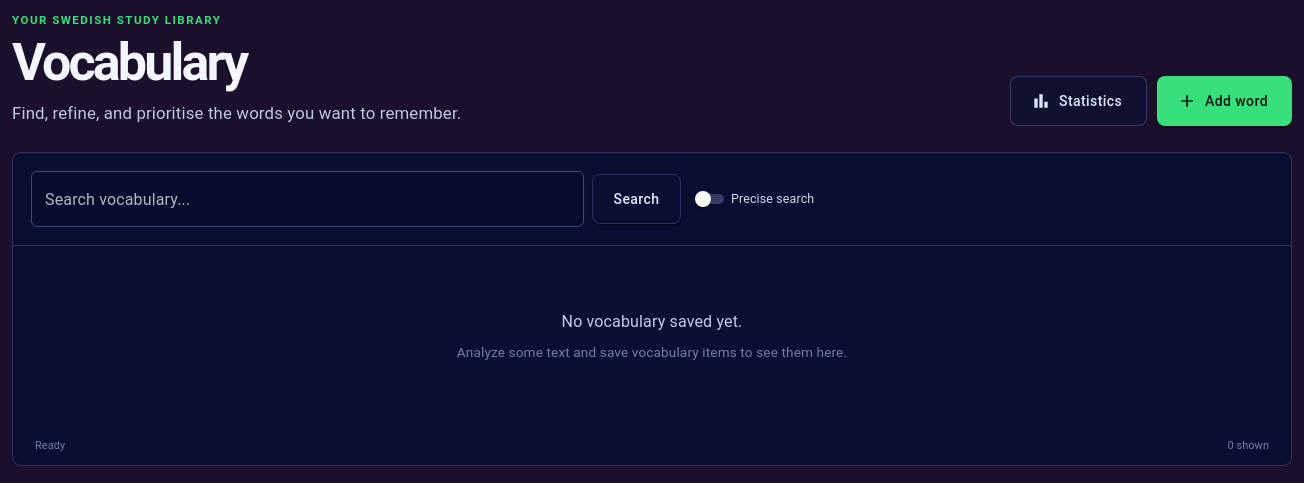
VocabularyView › clears visible and active vocabulary search
Type "hello" into the field with placeholder "Search vocabulary..." at [308, 199], box [31,171,584,227]
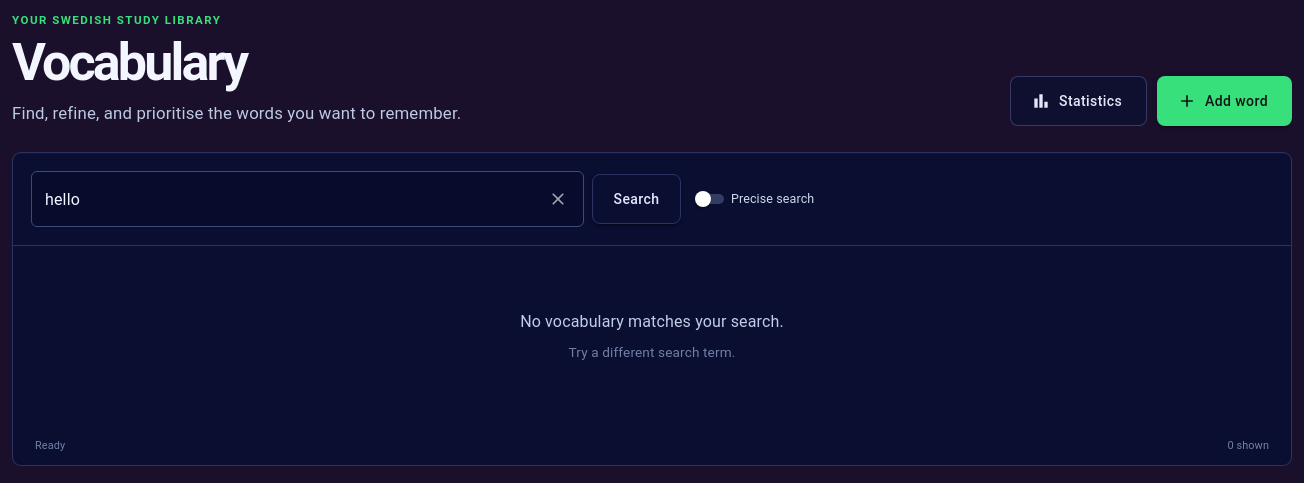
Click the button named "clear search" at [558, 199], box [543,184,573,214]
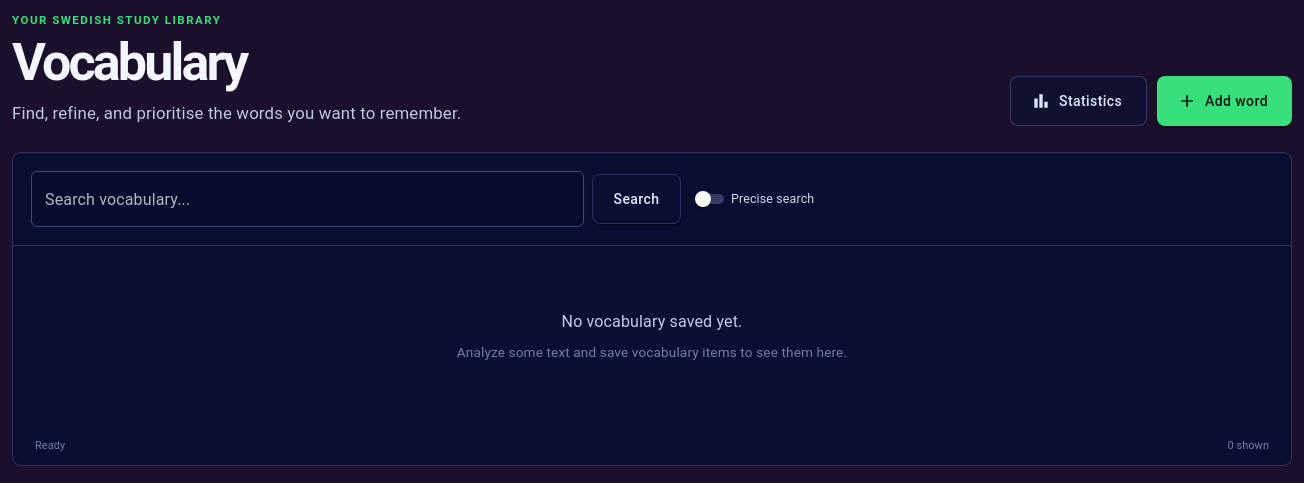
Expected: the field with placeholder "Search vocabulary..." is empty, [31,171,584,227]
